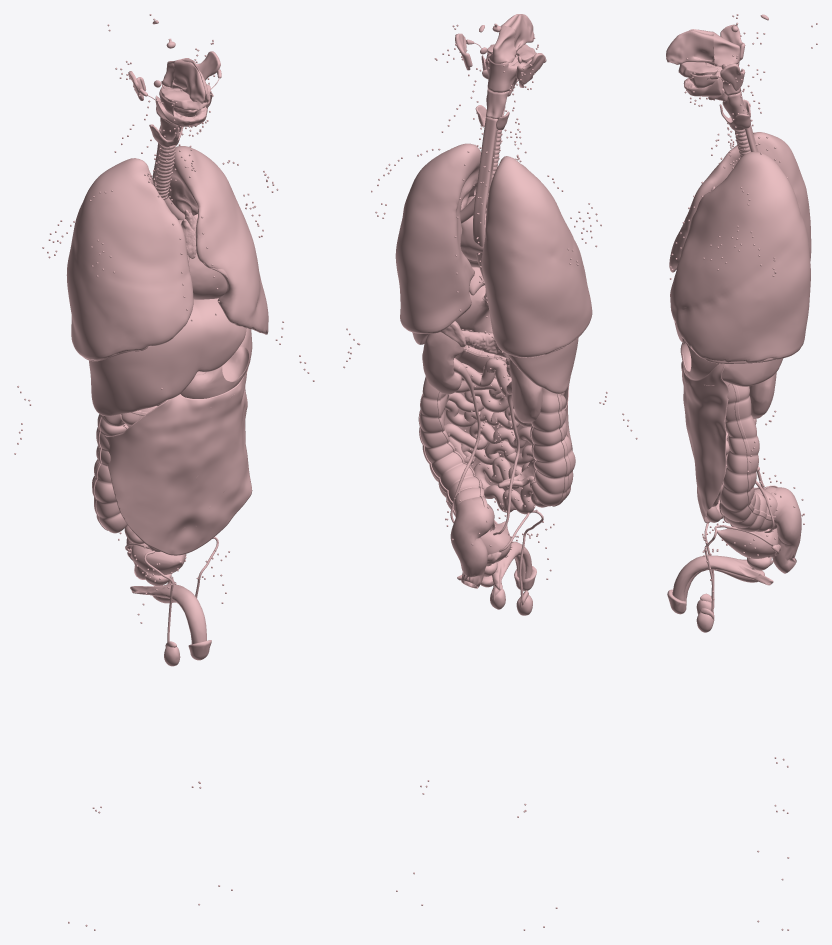
File: organes.glb
3 renders of one model, left to right at view 1: azimuth 30°, elevation 25°; view 2: azimuth 150°, elevation 25°; view 3: azimuth 270°, elevation 25°, orthographic. The views are drawn at different scales.
Parts seen in each view (by area): view 1: Pleura, Greater omentum, Liver, Ascending colon, Corpus cavernosum of penis, Stomach, Gingiva, Right ventricle, Mucosa of nasal cavity, Urinary bladder, Trachea, Mucosa of stomach; view 2: Pleura, Jejunum, Ascending colon, Descending colon, Sigmoid colon, Liver, Kidney.l, Oesophagus, Kidney.r, Stomach, Oropharynx, Mesocolic taenia (+9 smaller); view 3: Pleura, Greater omentum, Descending colon, Sigmoid colon, Corpus cavernosum of penis, Mucosa of nasal cavity, Urinary bladder, Spleen, Gingiva, Kidney.l, Mesocolic taenia, Nasopharynx (+8 smaller).
Part boxes in pixels (x1,y1,x2,y2): Pleura: (66, 146, 268, 360); Greater omentum: (104, 370, 252, 555); Liver: (89, 298, 246, 416); Ascending colon: (92, 414, 127, 533); Corpus cavernosum of penis: (130, 576, 206, 644); Stomach: (180, 328, 252, 398); Gingiva: (155, 84, 210, 126); Right ventricle: (188, 252, 227, 299); Mucosa of nasal cavity: (172, 58, 209, 103); Urinary bladder: (131, 543, 186, 575); Trachea: (153, 144, 175, 199); Mucosa of stomach: (222, 346, 248, 381); Pleura: (395, 143, 592, 357); Jejunum: (444, 363, 547, 514); Ascending colon: (531, 388, 575, 506); Descending colon: (419, 377, 494, 531); Sigmoid colon: (450, 498, 494, 588); Liver: (469, 267, 578, 393); Kidney.l: (422, 332, 463, 394); Oesophagus: (473, 116, 497, 301); Kidney.r: (509, 359, 542, 422); Stomach: (455, 285, 492, 332); Oropharynx: (485, 53, 532, 92); Mesocolic taenia: (418, 376, 570, 516); Pleura: (669, 132, 811, 362); Greater omentum: (681, 361, 729, 523); Descending colon: (720, 383, 777, 531); Sigmoid colon: (771, 487, 801, 573); Corpus cavernosum of penis: (672, 555, 773, 600); Mucosa of nasal cavity: (666, 29, 714, 65); Urinary bladder: (717, 526, 778, 558); Spleen: (721, 358, 782, 386); Gingiva: (678, 62, 722, 96); Kidney.l: (749, 372, 776, 418); Mesocolic taenia: (732, 384, 776, 520); Nasopharynx: (713, 32, 740, 66).
Bounding box in the file's own units: 0.4523 × 1.3 × 0.2012.
